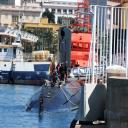submarine: (25, 23, 84, 118)
